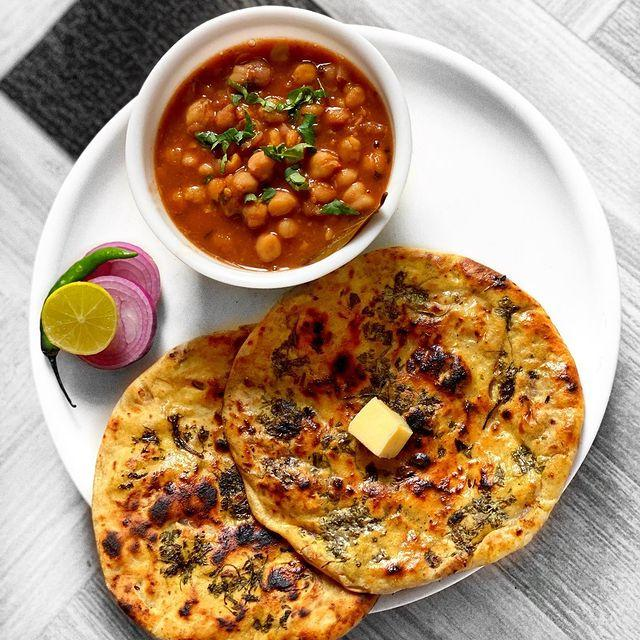Chole: (129, 11, 397, 278)
